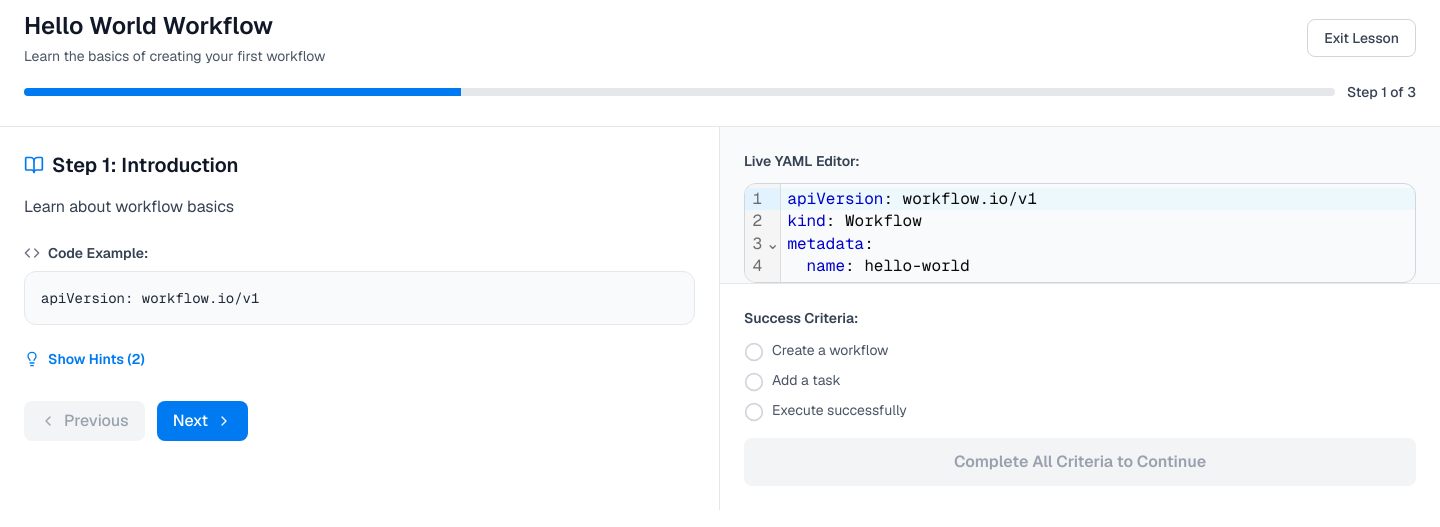
Test: LessonViewer › Step Navigation › should disable Next button on last step
Note: Navigate to last step
Click the button with test id "next-step-button": (202, 421) [157,401,248,441]
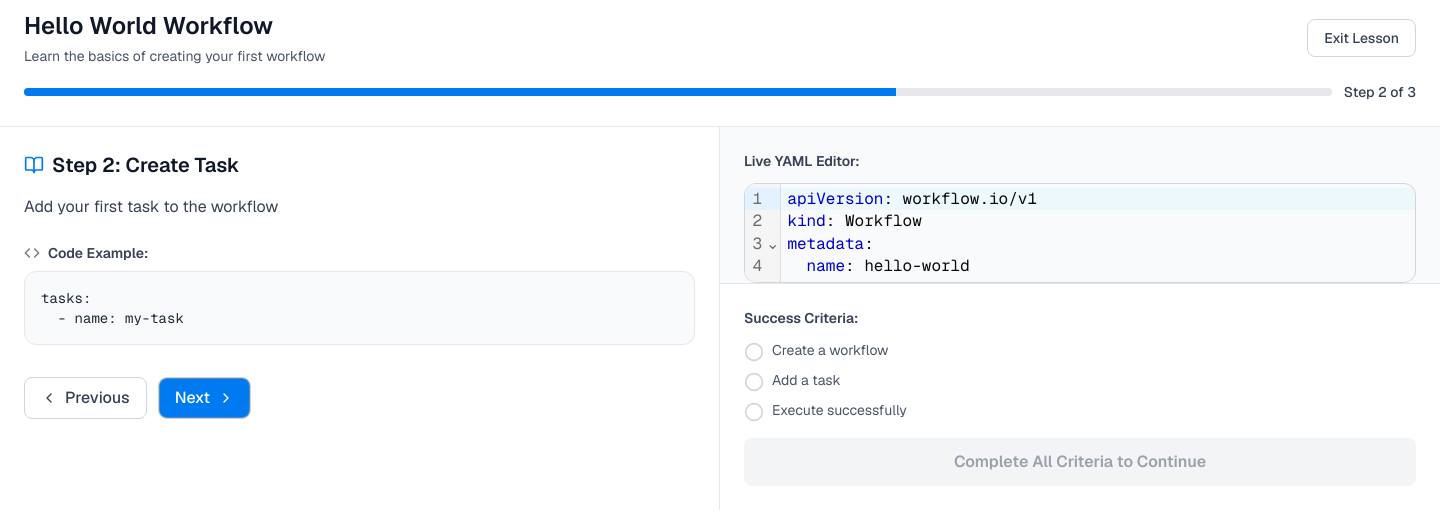
Click the button with test id "next-step-button": (204, 398) [159,378,250,418]
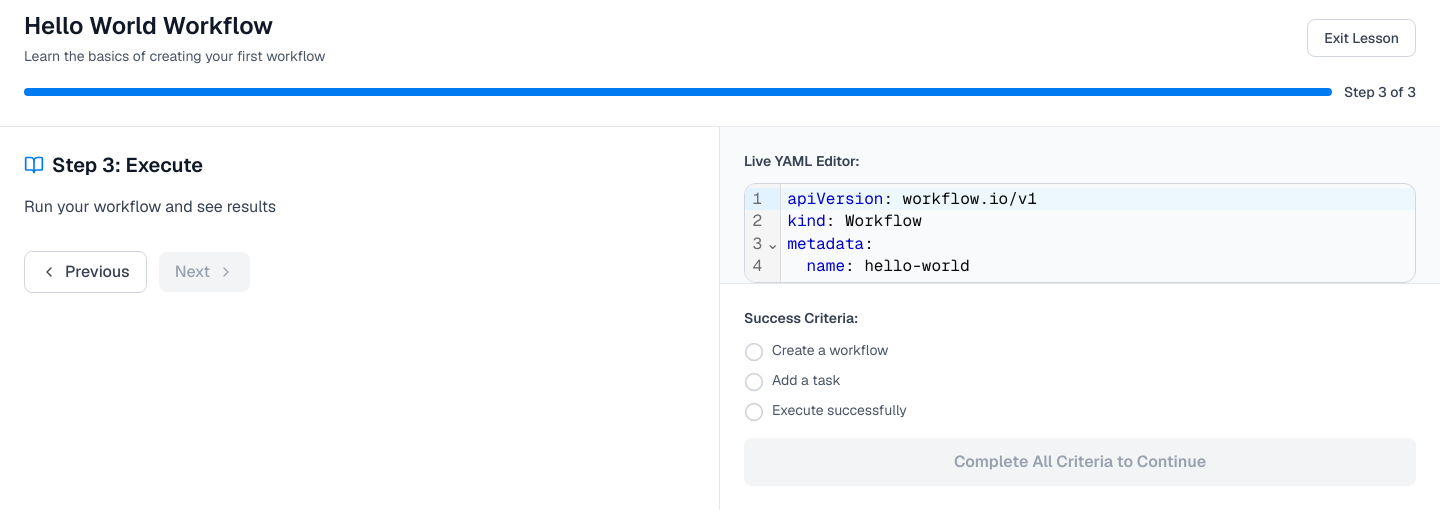
Check: the text "Step 3 of 3" is shown, box [1344,82,1416,102]
Check: the button with test id "next-step-button" is disabled, box [159,252,250,292]
